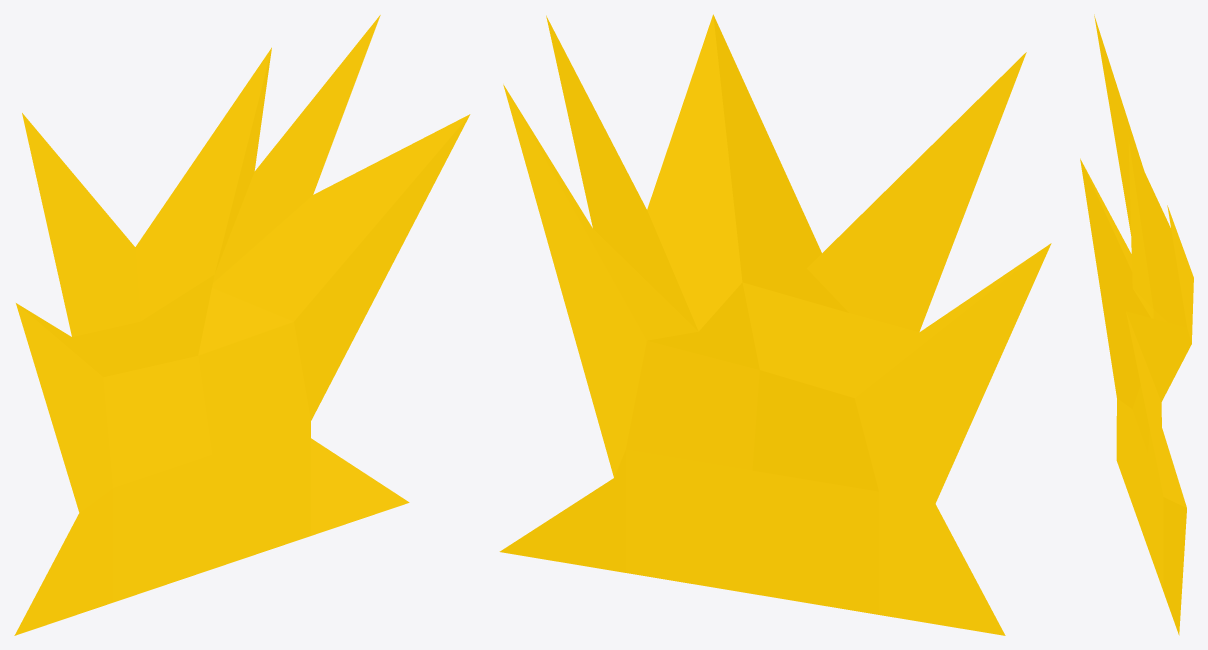
The picture shows the model from 3 angles, left to right: view 1: azimuth 30°, elevation 25°; view 2: azimuth 150°, elevation 25°; view 3: azimuth 270°, elevation 25°; orthographic projection. The views are drawn at different scales.
Visible parts, largest first — view 1: Plane.001; view 2: Plane.001; view 3: Plane.001.
Boxes of the visible parts, bbox=[...] form: Plane.001: bbox=[14, 15, 470, 635]; Plane.001: bbox=[499, 14, 1051, 635]; Plane.001: bbox=[1080, 14, 1193, 635].
Bounding box in the file's own units: 1.76 × 1.86 × 0.433.
